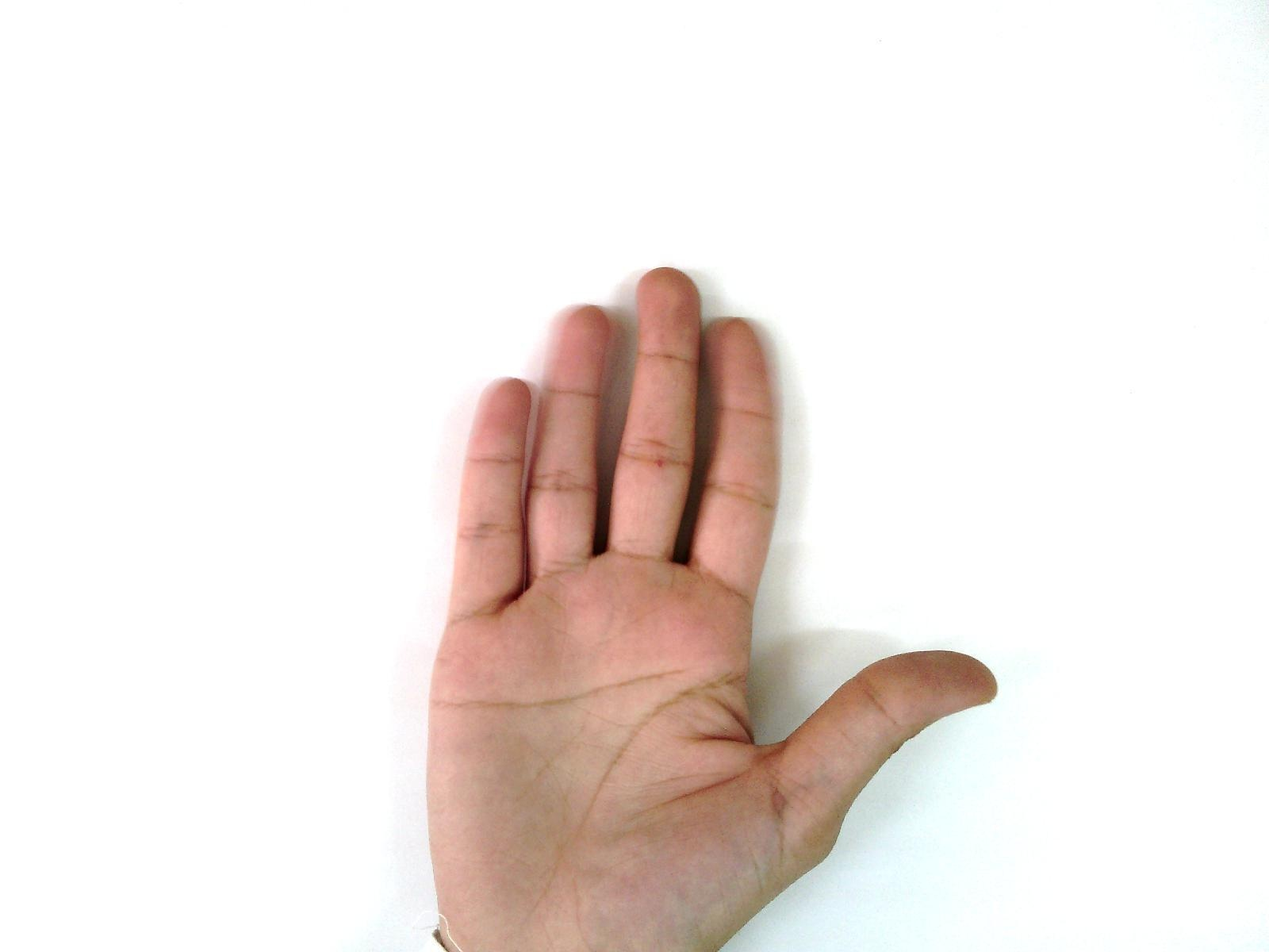open_palm: (421, 266, 1001, 951)
